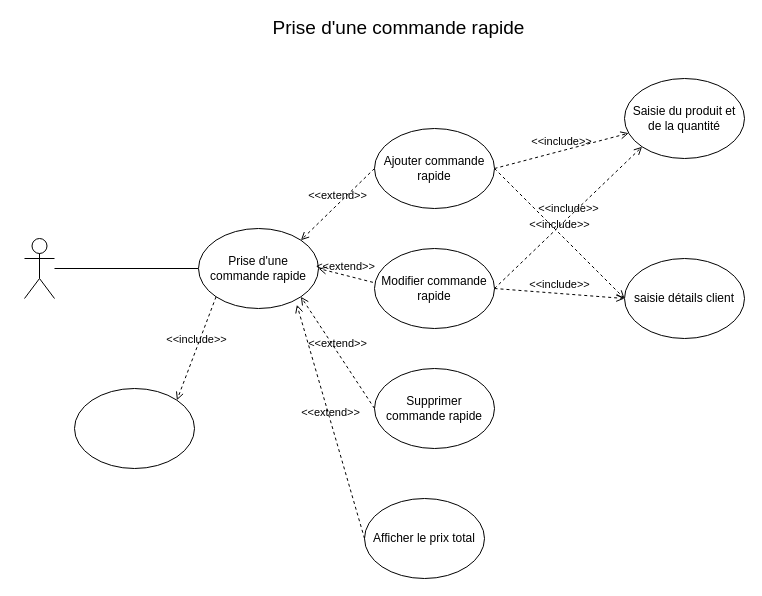
Some shapes in this 762 by 596 pixel diagram are drawn without their labels. Here are the shapes that lost their labels. From the top down, the box of each, then its label:
(24, 238, 54, 298): Vendeur
(74, 388, 194, 468): Authentification
